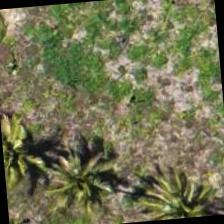Kelapa_Sawit: (30, 130, 129, 223), (0, 105, 78, 202), (128, 159, 222, 223)
